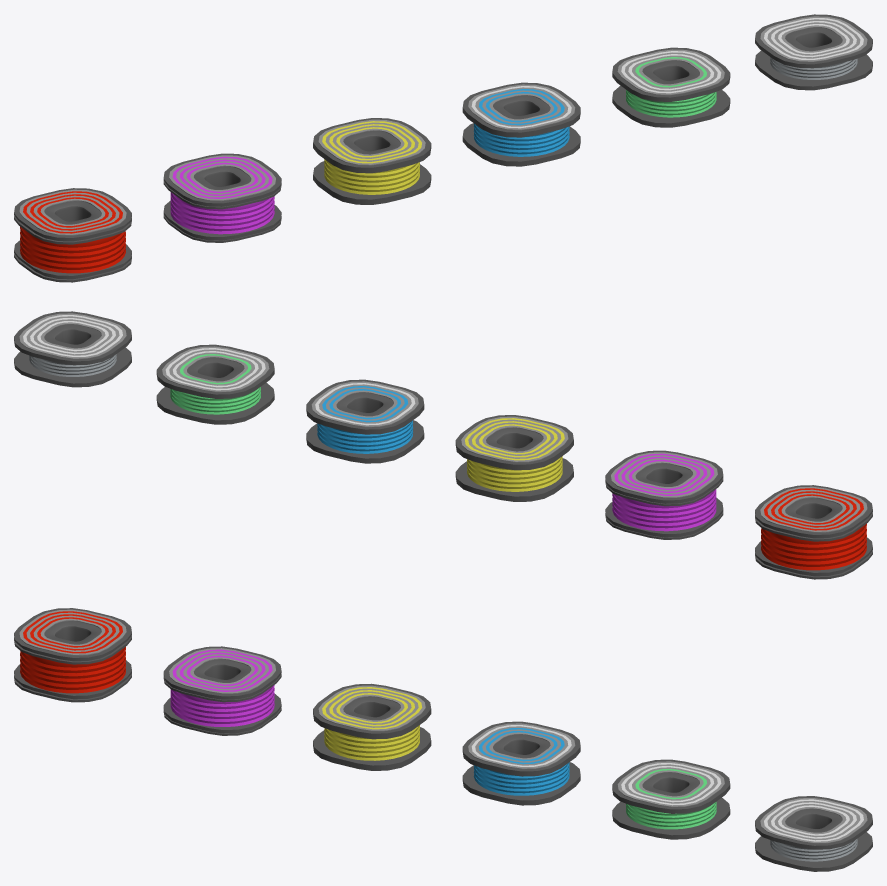
File: zylki1.fbx
3 renders of one model, top to bottom at view 1: azimuth 30°, elevation 25°; view 2: azimuth 150°, elevation 25°; view 3: azimuth 330°, elevation 25°, orthographic.
Visible parts, largest first — view 1: Cube.004, Cube.003, Cube.002, Cube.001, Cube, Cube.005; view 2: Cube.004, Cube.003, Cube.002, Cube.001, Cube, Cube.005; view 3: Cube.004, Cube.003, Cube.002, Cube.001, Cube, Cube.005.
Boxes of the visible parts, x1,y1,x2,y2 form: Cube.004: [14, 188, 131, 282]; Cube.003: [163, 153, 281, 242]; Cube.002: [313, 118, 431, 204]; Cube.001: [462, 82, 580, 166]; Cube: [612, 47, 730, 127]; Cube.005: [755, 14, 872, 90]; Cube.004: [755, 485, 872, 579]; Cube.003: [605, 450, 723, 539]; Cube.002: [455, 415, 573, 501]; Cube.001: [306, 379, 424, 463]; Cube: [156, 344, 274, 424]; Cube.005: [14, 311, 131, 387]; Cube.004: [14, 608, 131, 702]; Cube.003: [163, 646, 281, 735]; Cube.002: [313, 683, 431, 770]; Cube.001: [462, 721, 580, 805]; Cube: [612, 759, 730, 839]; Cube.005: [755, 796, 872, 871].
Bounding box in the file's own units: 1785 × 93.16 × 200.
